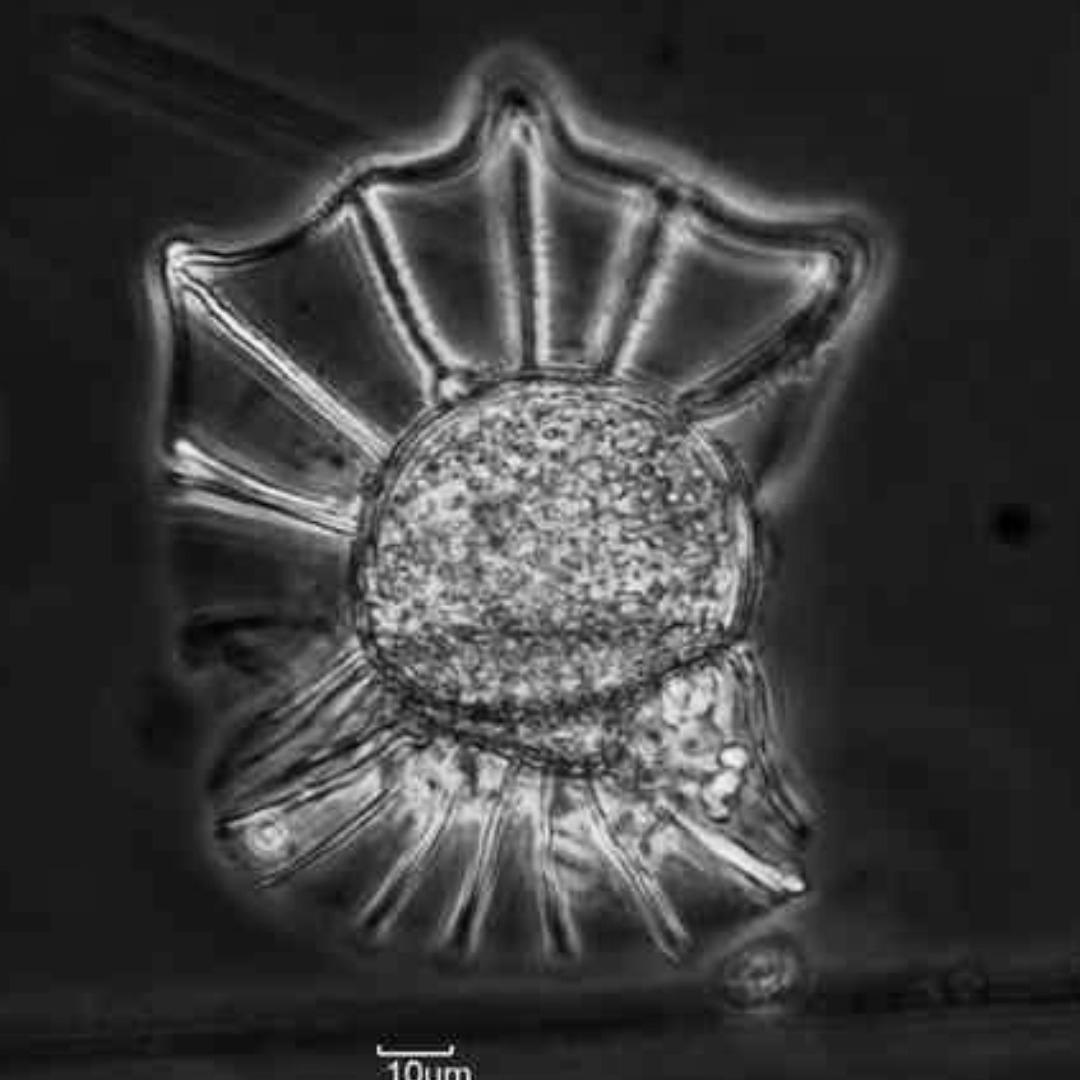ornithocercus_thumii: (152, 60, 880, 961)
